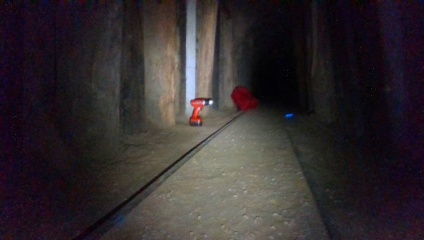backpack: (229, 86, 257, 112)
drill: (189, 96, 216, 127)
